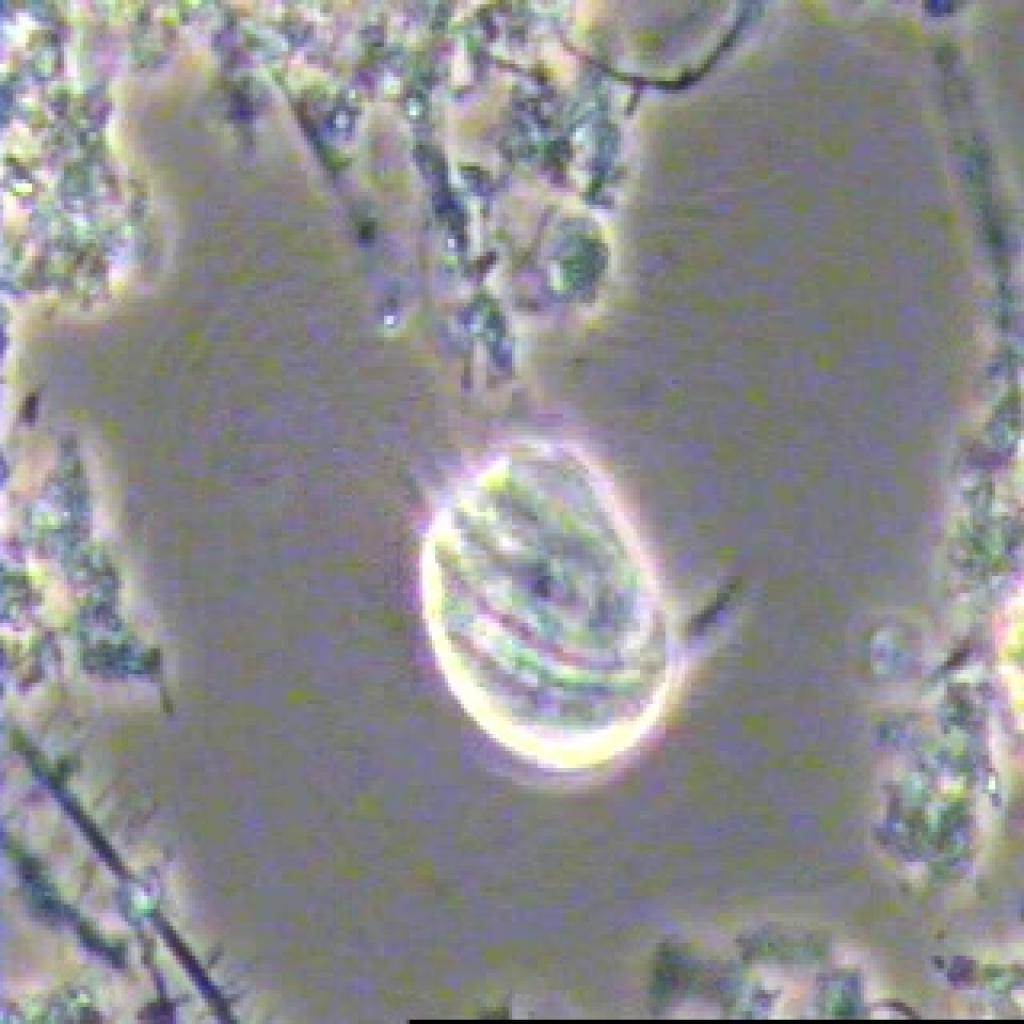Aspidisca: (386, 437, 766, 796)
